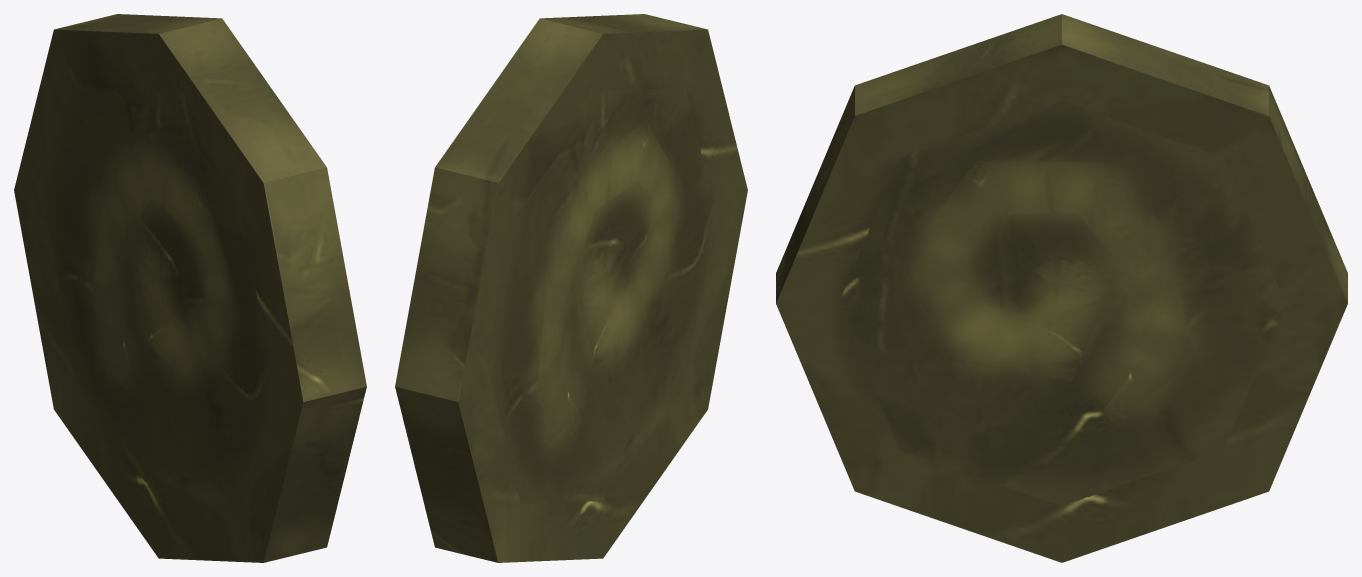
The model's file is Coin.fbx.
3 views of the same model, side by side, from view 1: azimuth 30°, elevation 25°; view 2: azimuth 150°, elevation 25°; view 3: azimuth 270°, elevation 25° (orthographic).
Parts seen in each view (by area): view 1: Cube.039; view 2: Cube.039; view 3: Cube.039.
Boxes of the visible parts, x1,y1,x2,y2 form: Cube.039: (14,14,366,562); Cube.039: (395,14,747,562); Cube.039: (776,14,1347,562).
Size of the model in its own units: 9.84 by 77.76 by 77.76.
